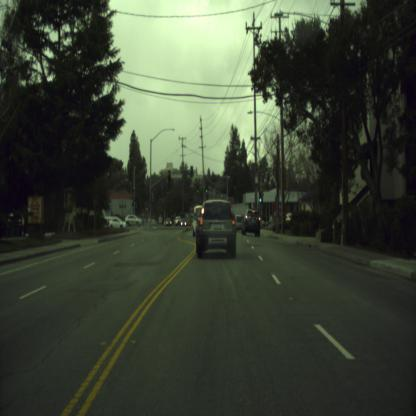Green: (258, 191, 262, 202), (206, 184, 208, 192)
GreenLeft: (132, 201, 134, 210), (196, 185, 198, 193)
